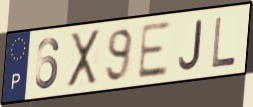6: (34, 36, 61, 92)
9: (104, 27, 135, 82)
E: (135, 19, 172, 82)
J: (177, 18, 204, 73)
L: (210, 15, 238, 70)
X: (66, 27, 102, 90)
